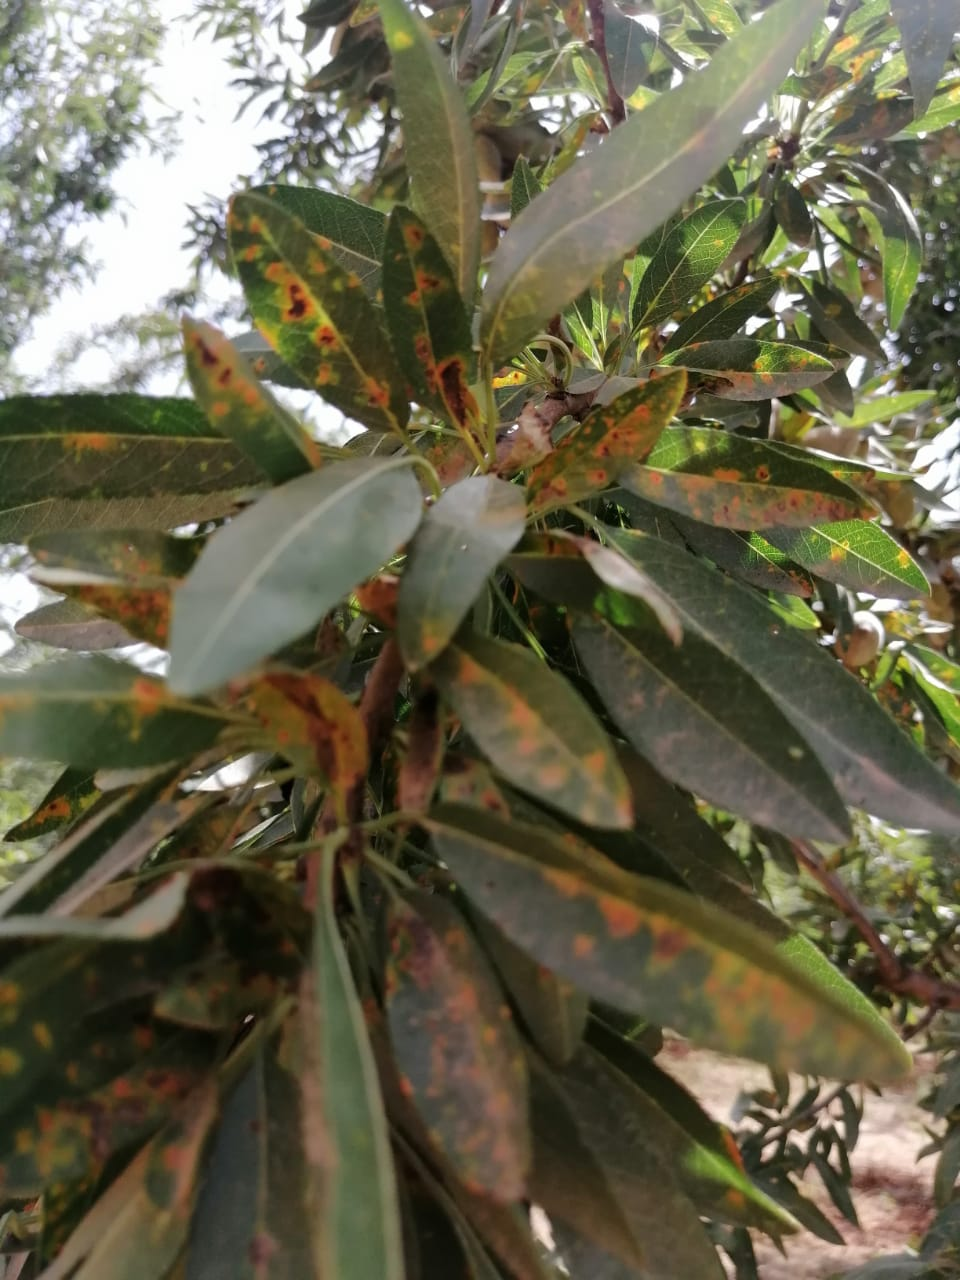polystigma: (532, 645, 960, 772), (507, 873, 634, 1184), (40, 306, 319, 434), (398, 1017, 525, 1280), (426, 710, 534, 1014), (271, 923, 390, 1198), (534, 515, 738, 653), (317, 118, 415, 313), (168, 435, 383, 517), (130, 584, 294, 688), (524, 296, 701, 391), (459, 260, 580, 357)
